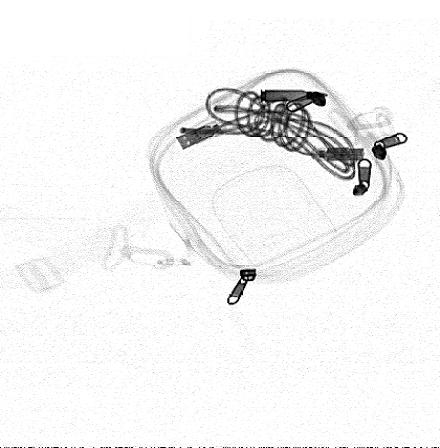Bullet: (260, 89, 329, 102)
